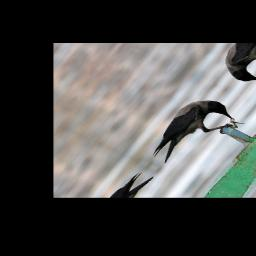Crow: (142, 91, 244, 176)
